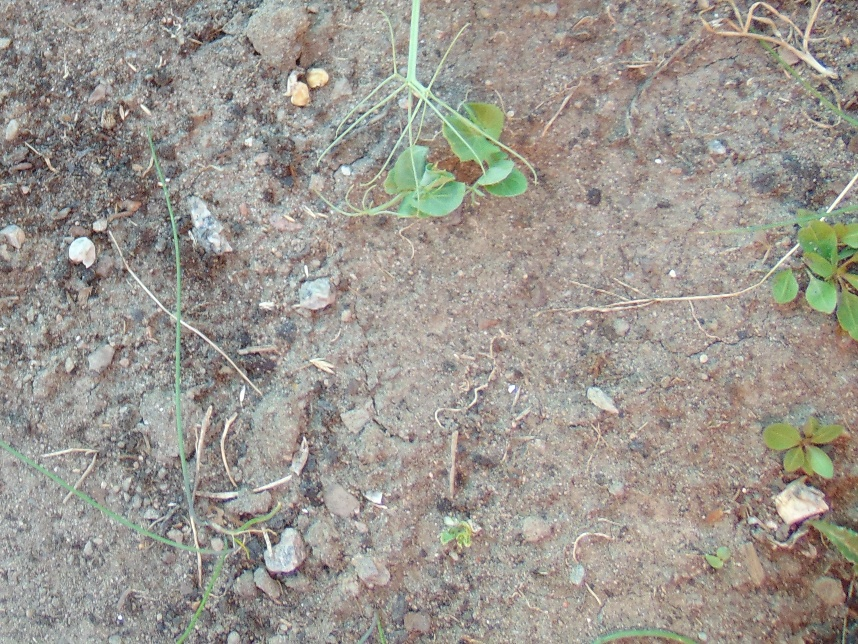crop: (340, 32, 545, 225), (436, 517, 482, 547)
weed: (767, 207, 858, 341), (762, 414, 845, 475), (811, 517, 858, 569), (704, 544, 727, 570)
